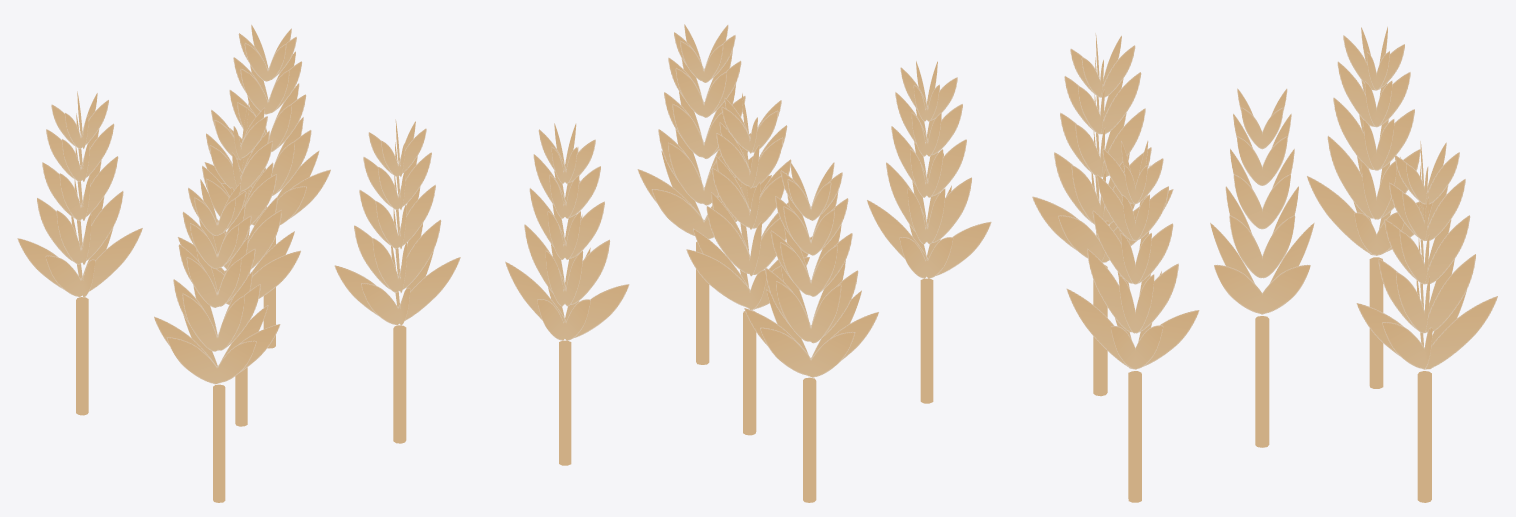
Rendered from Flowers_n03_14.fbx.
3 views of the same model, side by side, from view 1: azimuth 30°, elevation 25°; view 2: azimuth 150°, elevation 25°; view 3: azimuth 270°, elevation 25° (orthographic). The views are drawn at different scales.
Parts seen in each view (by area): view 1: polySurface560; view 2: polySurface560; view 3: polySurface560.
Boxes of the visible parts, x1=… form: polySurface560: x1=17, y1=24, x2=460, y2=502; polySurface560: x1=505, y1=24, x2=991, y2=502; polySurface560: x1=1032, y1=26, x2=1497, y2=502.
Bounding box in the file's own units: 49.64 × 46.36 × 56.6.
Materials: 1 (1 with a texture image).
